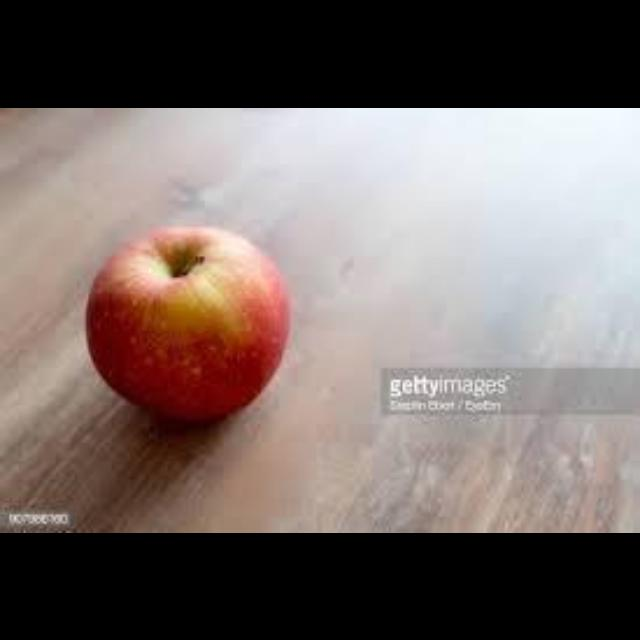apple: (86, 226, 289, 419)
